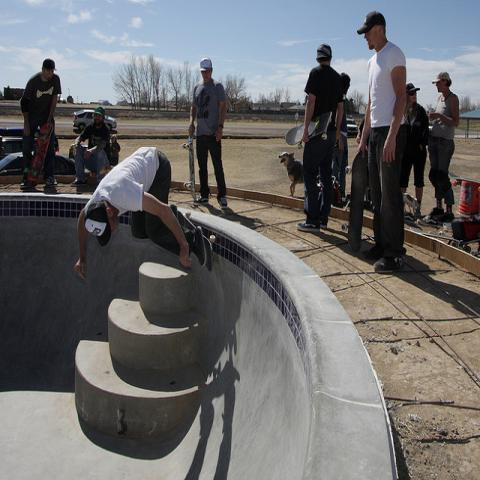car: (0, 152, 77, 176), (72, 108, 117, 132), (0, 126, 26, 159), (347, 118, 359, 138)
